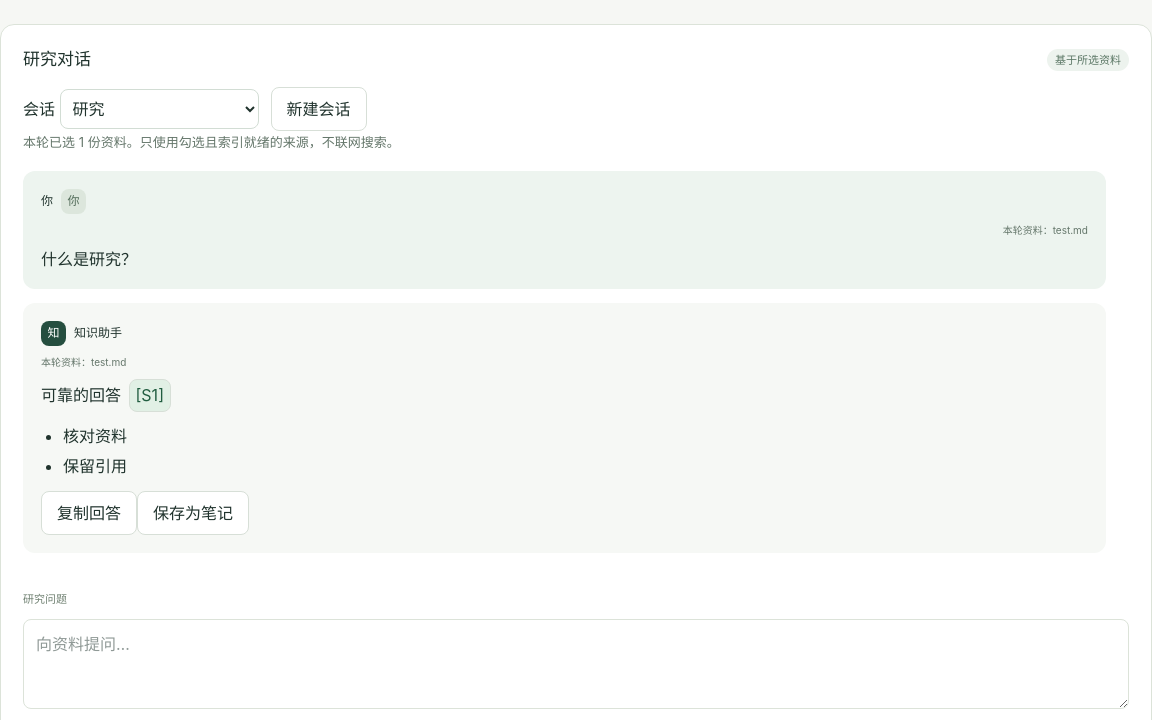
Scenario: copies the original Markdown answer with confirmation feedback
Expected: the text "可靠的回答" is shown, [41,385,121,405]
Click the button "复制回答" at {"x": 89, "y": 513}, box [41,491,137,535]
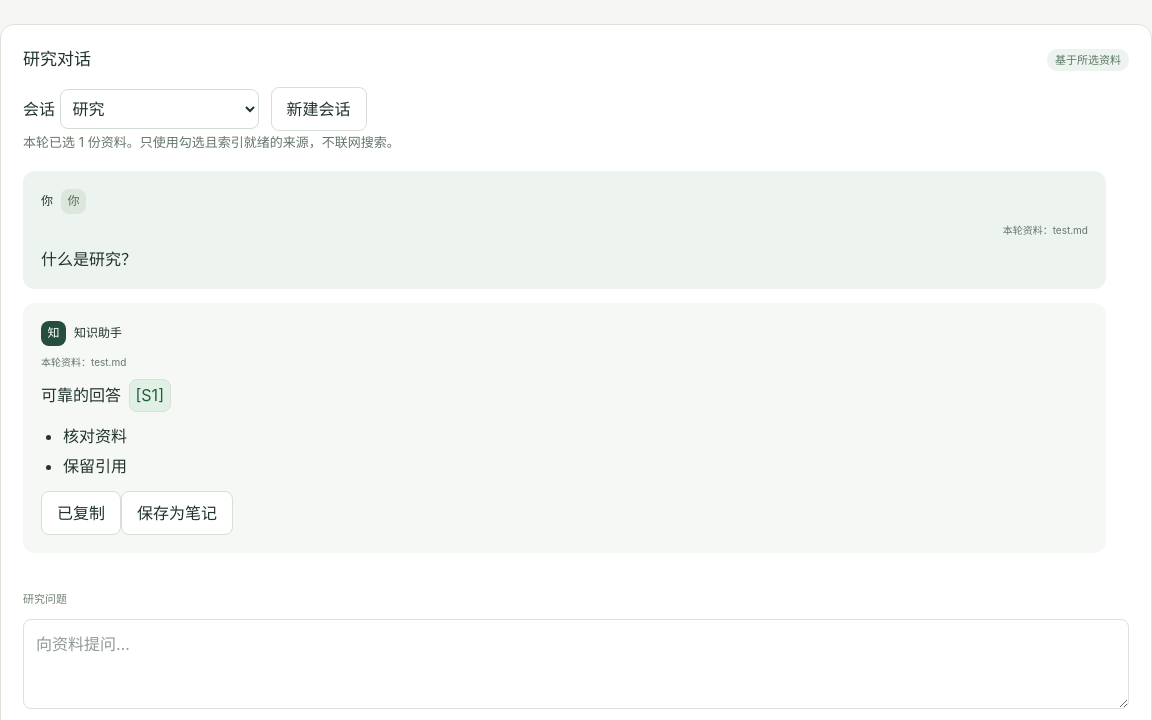
Now the button "已复制" is shown, box [41,491,121,535]
